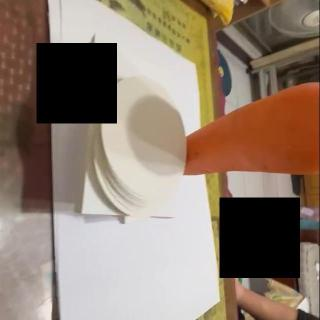carrot: (184, 81, 320, 177)
